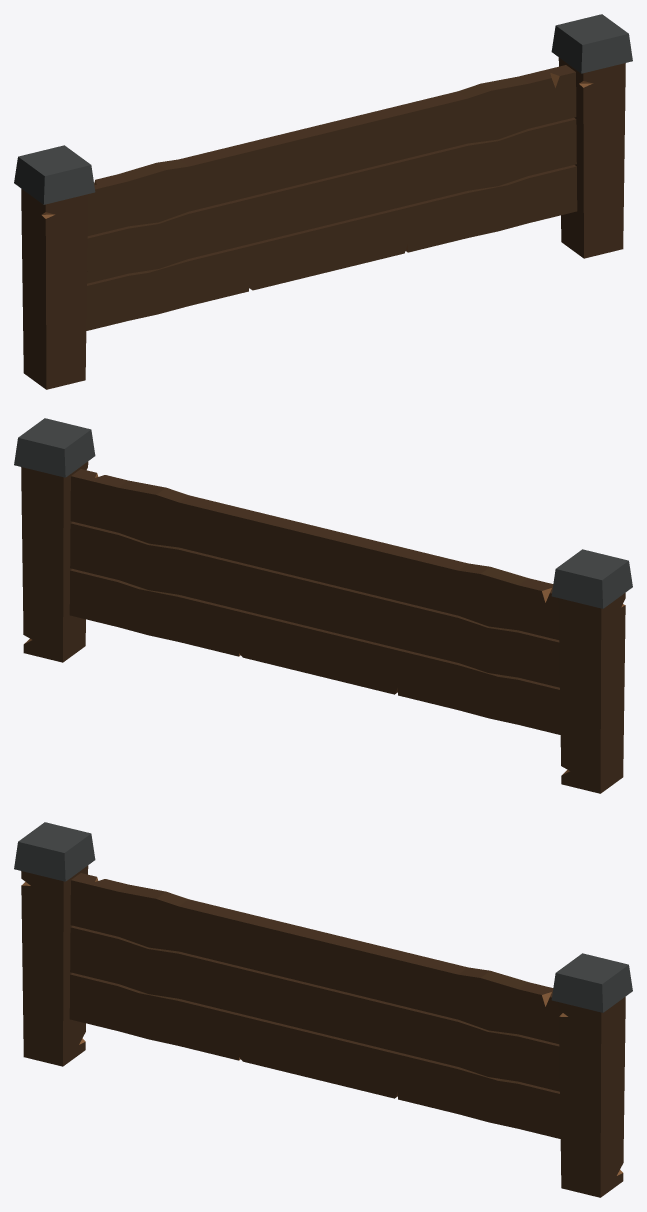
File: Fence_4_Dark_Brown.fbx
3 renders of one model, top to bottom at view 1: azimuth 30°, elevation 25°; view 2: azimuth 150°, elevation 25°; view 3: azimuth 330°, elevation 25°, orthographic.
Parts seen in each view (by area): view 1: Fence_4_Dark_Brown; view 2: Fence_4_Dark_Brown; view 3: Fence_4_Dark_Brown.
Boxes of the visible parts, x1,y1,x2,y2 form: Fence_4_Dark_Brown: [14, 14, 632, 389]; Fence_4_Dark_Brown: [14, 418, 632, 793]; Fence_4_Dark_Brown: [14, 822, 632, 1197].
Bounding box in the file's own units: 274 × 96 × 24.
